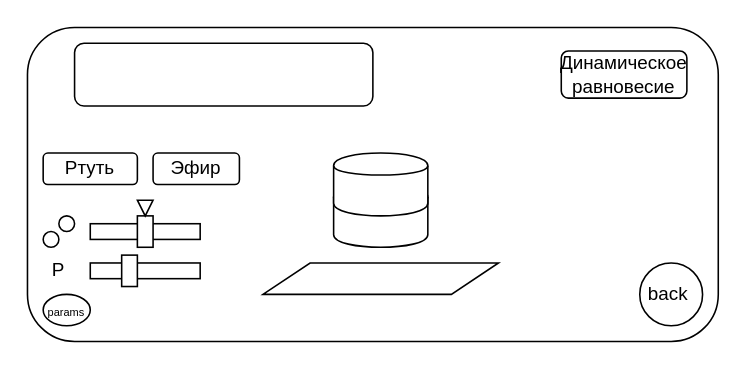
Some shapes in this 746 by 369 pixel diagram are drawn without their labels. Here are the shapes that lost their labels. From the top down, the box of each, then its label:
(73, 42, 373, 106): Равновесие между жидкостью и паром
(261, 261, 498, 294): с. 207
